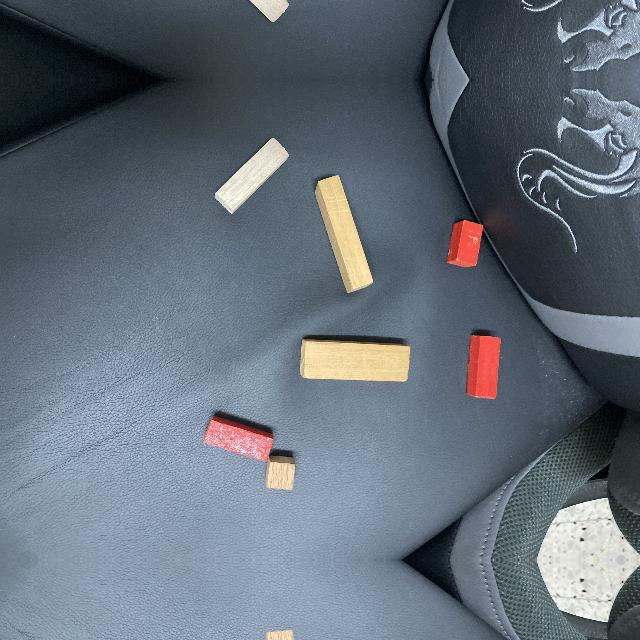block: (213, 139, 289, 214), (249, 0, 289, 21)
cube: (265, 456, 296, 491), (265, 629, 294, 640)
jenga: (315, 175, 373, 293), (299, 339, 411, 382)
red block: (203, 416, 273, 462), (466, 335, 501, 400), (447, 221, 485, 269)
